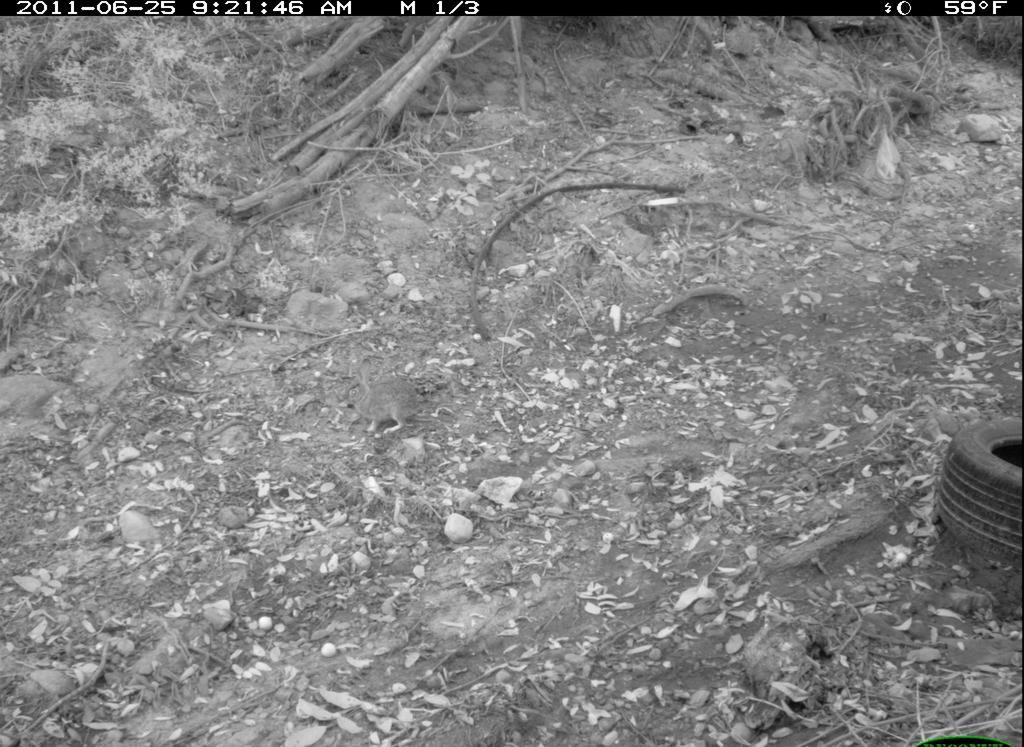rabbit: (342, 360, 428, 440)
